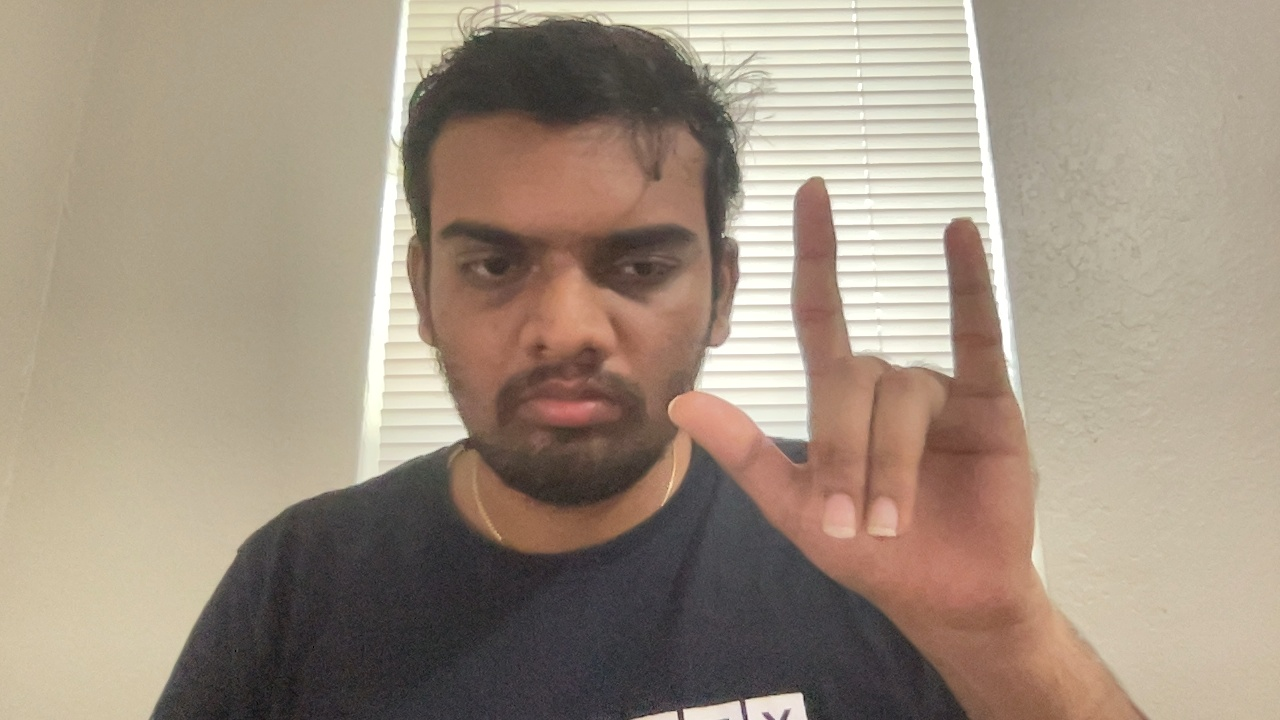i love you: (663, 171, 1053, 633)
